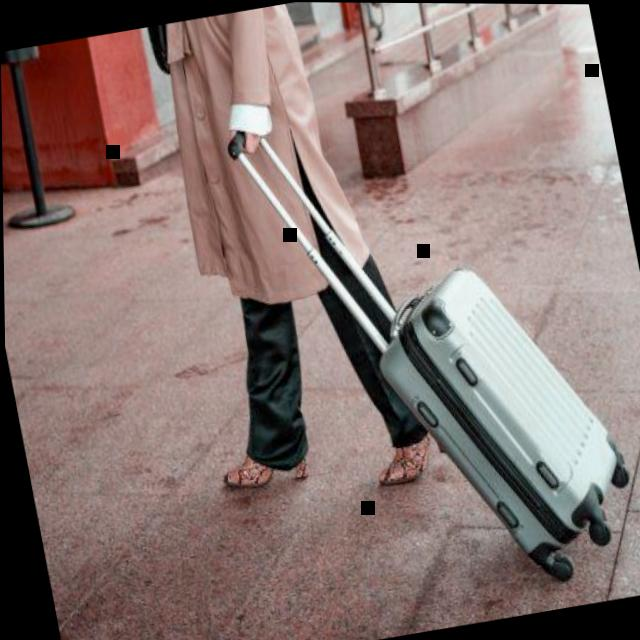luggage: (359, 235, 640, 588)
